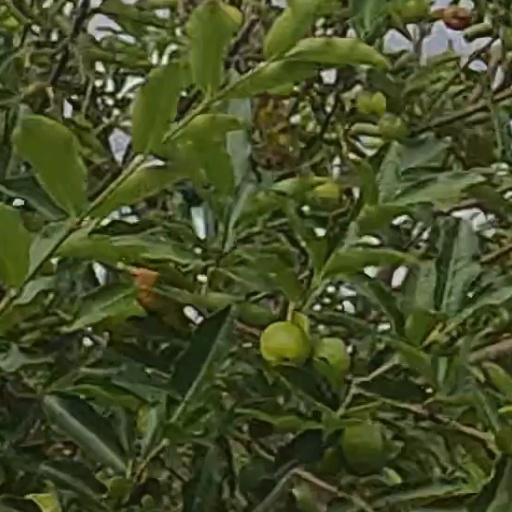acerola: (344, 423, 386, 471), (263, 320, 305, 365), (315, 339, 350, 375), (443, 4, 473, 30)
